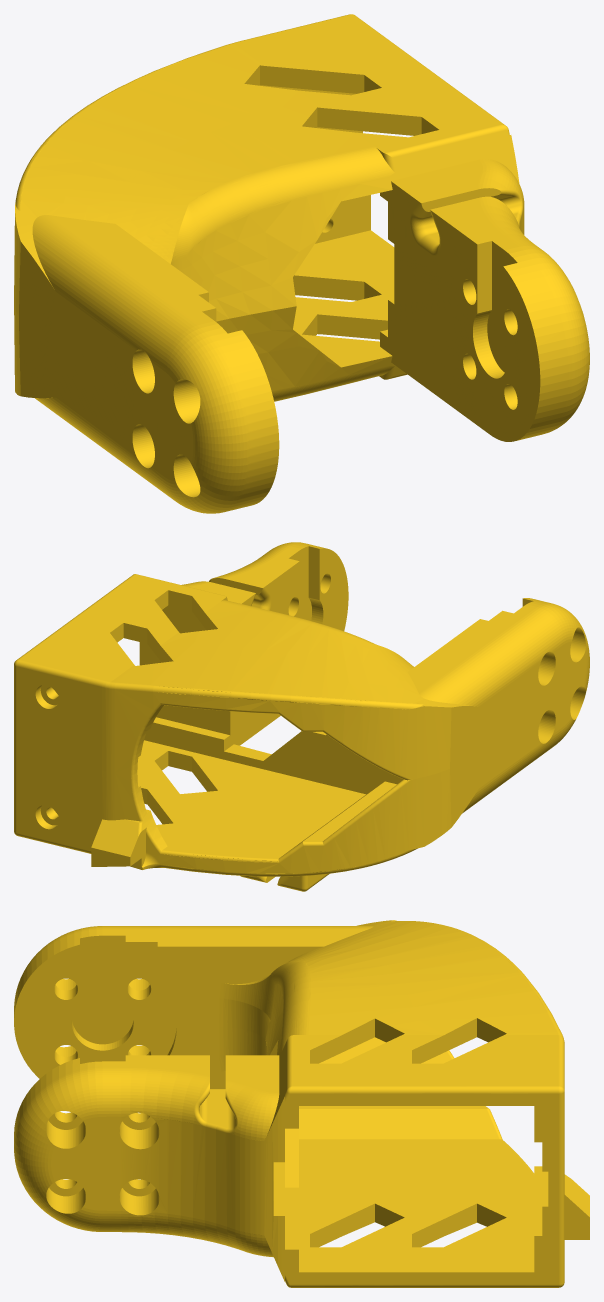
Rendered from wrist_roll_pitch_so101_v2.glb.
The picture shows the model from 3 angles, top to bottom: view 1: azimuth 30°, elevation 25°; view 2: azimuth 150°, elevation 25°; view 3: azimuth 270°, elevation 25°; orthographic projection. The views are drawn at different scales.
Visible parts, largest first — view 1: wrist_roll_pitch_so101_v2; view 2: wrist_roll_pitch_so101_v2; view 3: wrist_roll_pitch_so101_v2.
Boxes of the visible parts, <box> form: wrist_roll_pitch_so101_v2: <box>14,14,589,513</box>; wrist_roll_pitch_so101_v2: <box>14,542,589,891</box>; wrist_roll_pitch_so101_v2: <box>14,920,589,1287</box>.
Bounding box in the file's own units: 0.0623 × 0.0357 × 0.0778.
